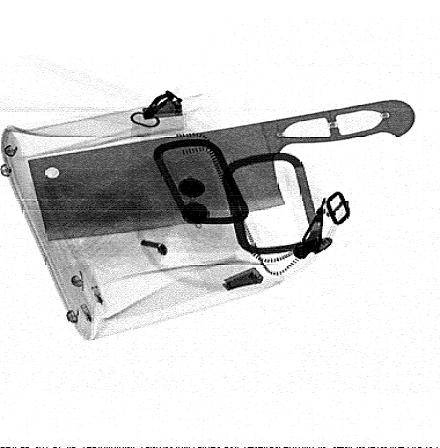Knife: (27, 97, 417, 242)
